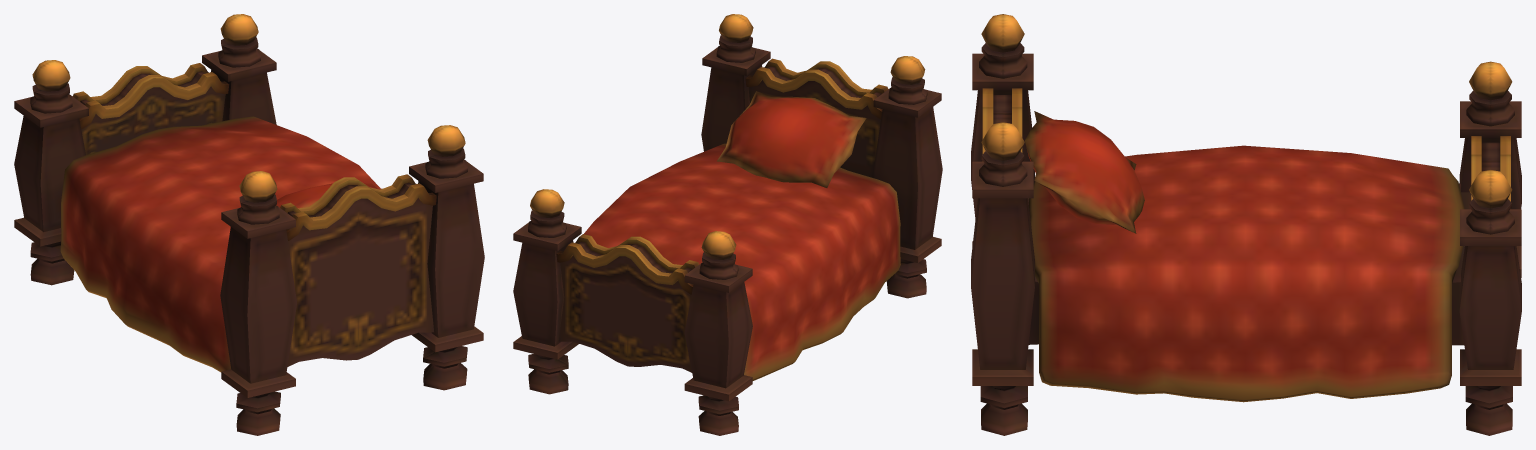
File: Sngle_Bed_01.gltf
The picture shows the model from 3 angles, left to right: view 1: azimuth 30°, elevation 25°; view 2: azimuth 150°, elevation 25°; view 3: azimuth 270°, elevation 25°; orthographic projection. The views are drawn at different scales.
Visible parts, largest first — view 1: Sngle_Bed_01; view 2: Sngle_Bed_01; view 3: Sngle_Bed_01.
Part boxes in pixels (left/top/right/bottom): Sngle_Bed_01: left=14, top=14, right=484, bottom=435; Sngle_Bed_01: left=513, top=14, right=942, bottom=435; Sngle_Bed_01: left=971, top=14, right=1521, bottom=435.
Size of the model in its own units: 57.4 by 55.66 by 92.56.
Materials: 1 (1 with a texture image).
